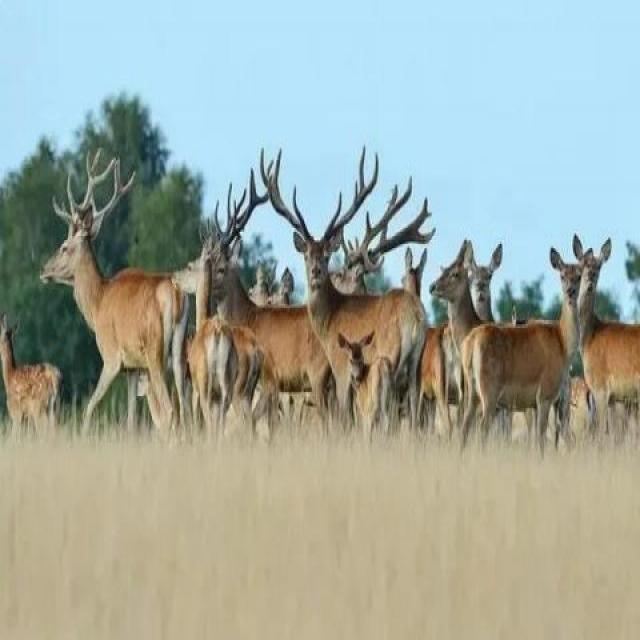deer: (196, 224, 367, 427), (40, 207, 214, 401), (280, 204, 430, 413), (429, 216, 582, 411), (402, 213, 518, 399), (546, 203, 630, 358), (168, 245, 248, 398), (0, 316, 83, 449)
